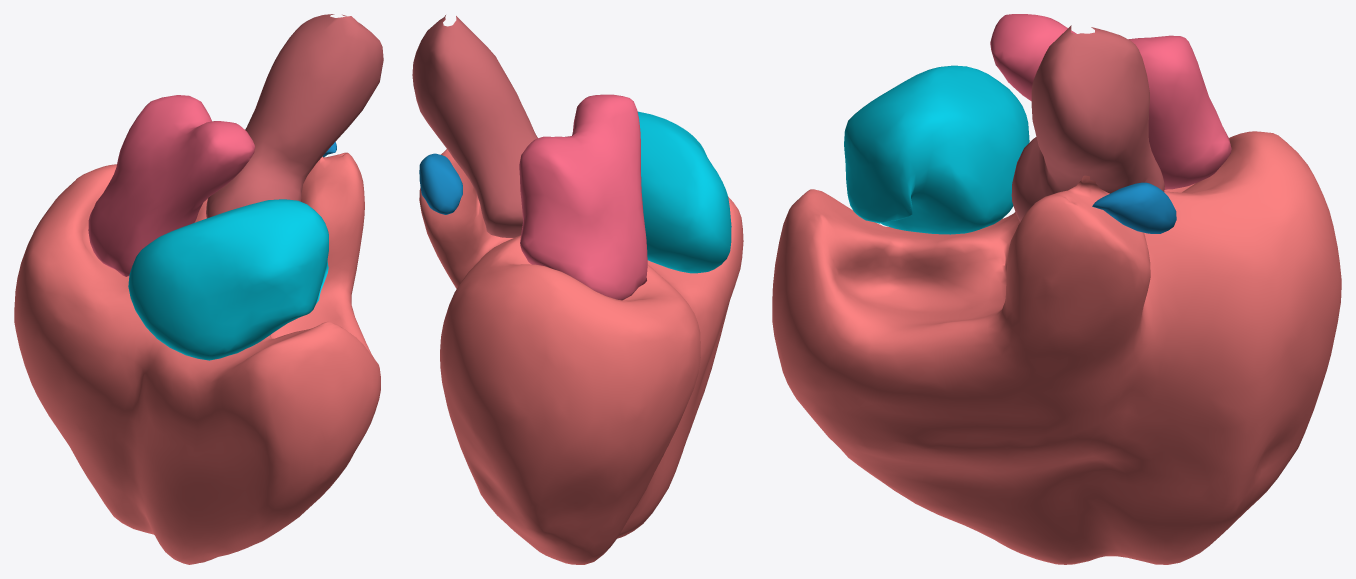
File: frame_61.glb
3 renders of one model, left to right at view 1: azimuth 30°, elevation 25°; view 2: azimuth 150°, elevation 25°; view 3: azimuth 270°, elevation 25°, orthographic. The views are drawn at different scales.
Visible parts, largest first — view 1: Renderer Node; view 2: Renderer Node; view 3: Renderer Node.
Boxes of the visible parts, x1,y1,x2,y2 form: Renderer Node: (14, 14, 383, 564); Renderer Node: (412, 15, 743, 564); Renderer Node: (772, 14, 1341, 564).
Bounding box in the file's own units: 102 × 158 × 128.
